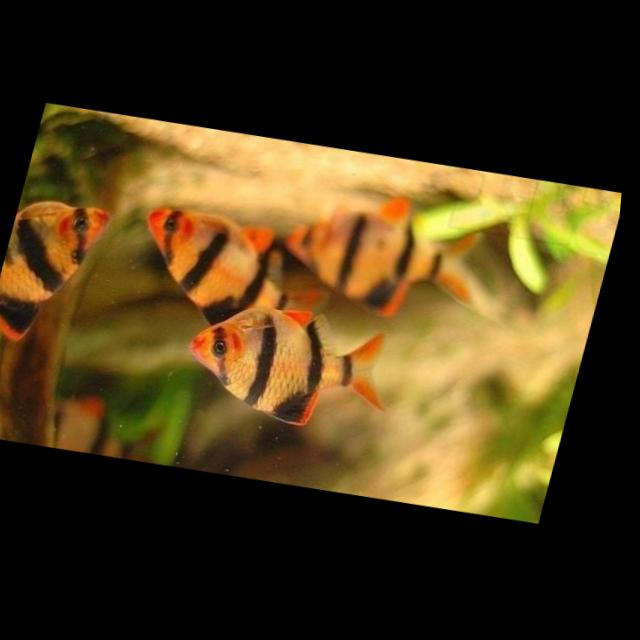fish: (176, 286, 421, 448), (271, 180, 514, 342), (119, 197, 355, 356), (0, 188, 123, 365)
